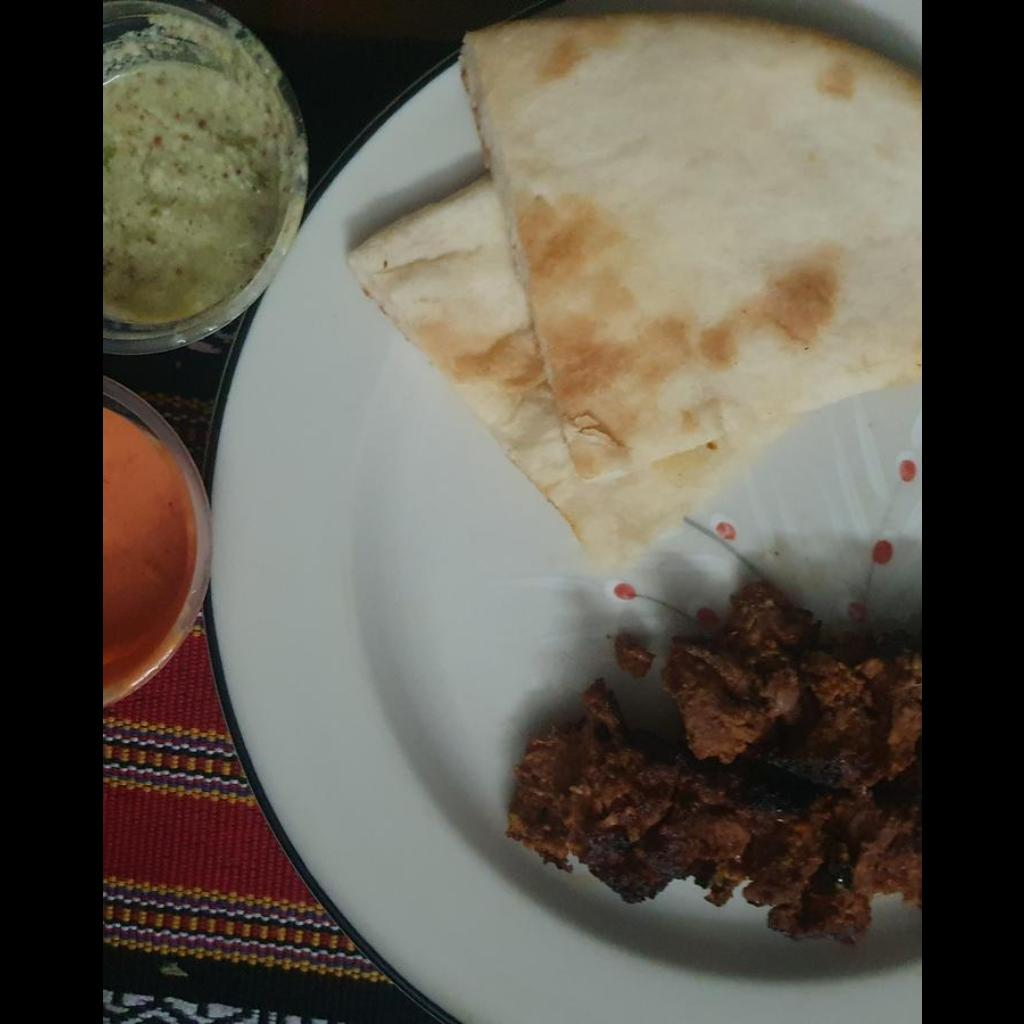achar: (105, 71, 279, 329), (102, 418, 193, 685)
chicken: (500, 590, 920, 949)
ruti: (342, 13, 918, 574)
